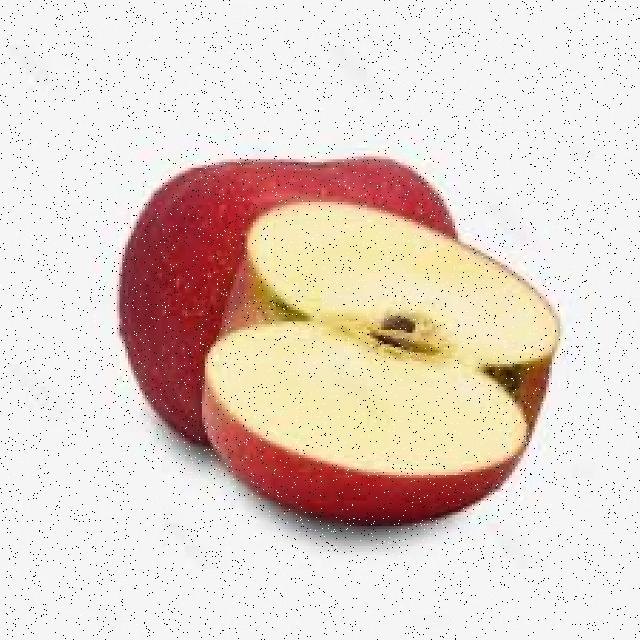Apple: (202, 196, 559, 515), (104, 148, 410, 350)
